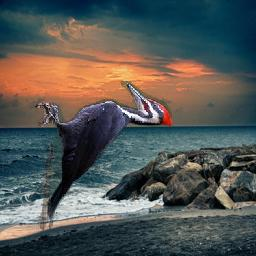Woodpecker: (36, 82, 173, 231)
